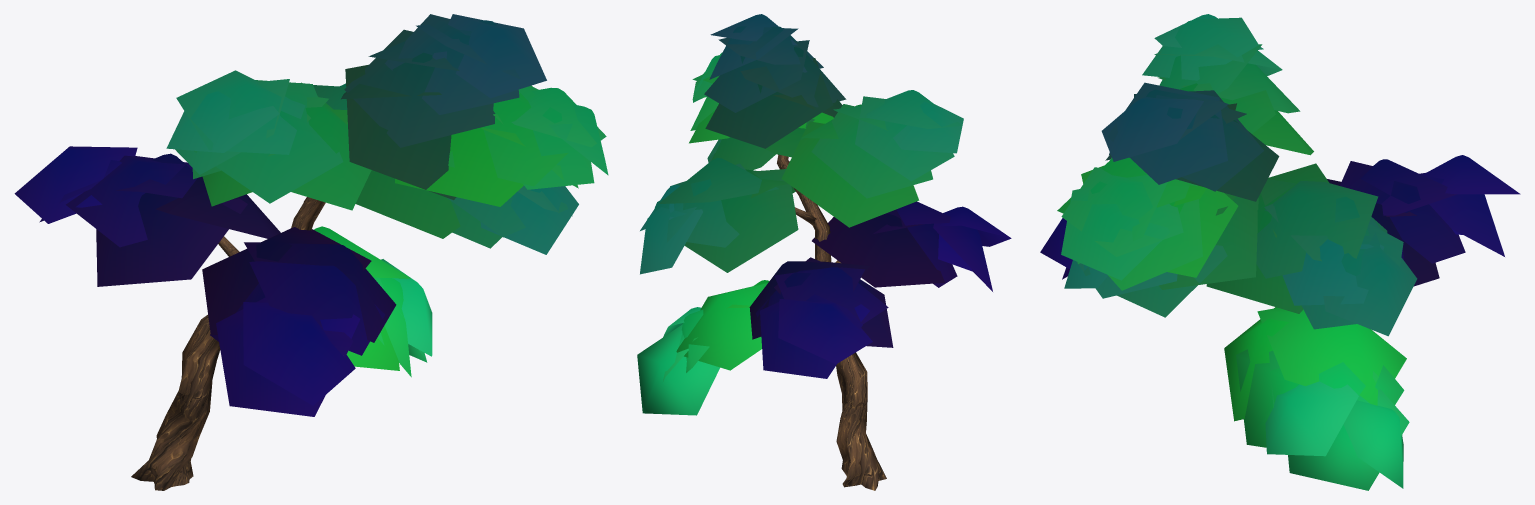
File: FantasyTree18.fbx
The picture shows the model from 3 angles, left to right: view 1: azimuth 30°, elevation 25°; view 2: azimuth 150°, elevation 25°; view 3: azimuth 270°, elevation 25°; orthographic projection. The views are drawn at different scales.
Visible parts, largest first — view 1: fantasyleaf4_alpha_1, tree2_0; view 2: fantasyleaf4_alpha_1, tree2_0; view 3: fantasyleaf4_alpha_1.
Boxes of the visible parts, x1,y1,x2,y2 form: fantasyleaf4_alpha_1: [14, 14, 608, 416]; tree2_0: [131, 197, 325, 490]; fantasyleaf4_alpha_1: [637, 14, 1011, 415]; tree2_0: [777, 154, 886, 490]; fantasyleaf4_alpha_1: [1040, 14, 1520, 490].
Bounding box in the file's own units: 450 × 509 × 509.
1 material, 1 textured.
